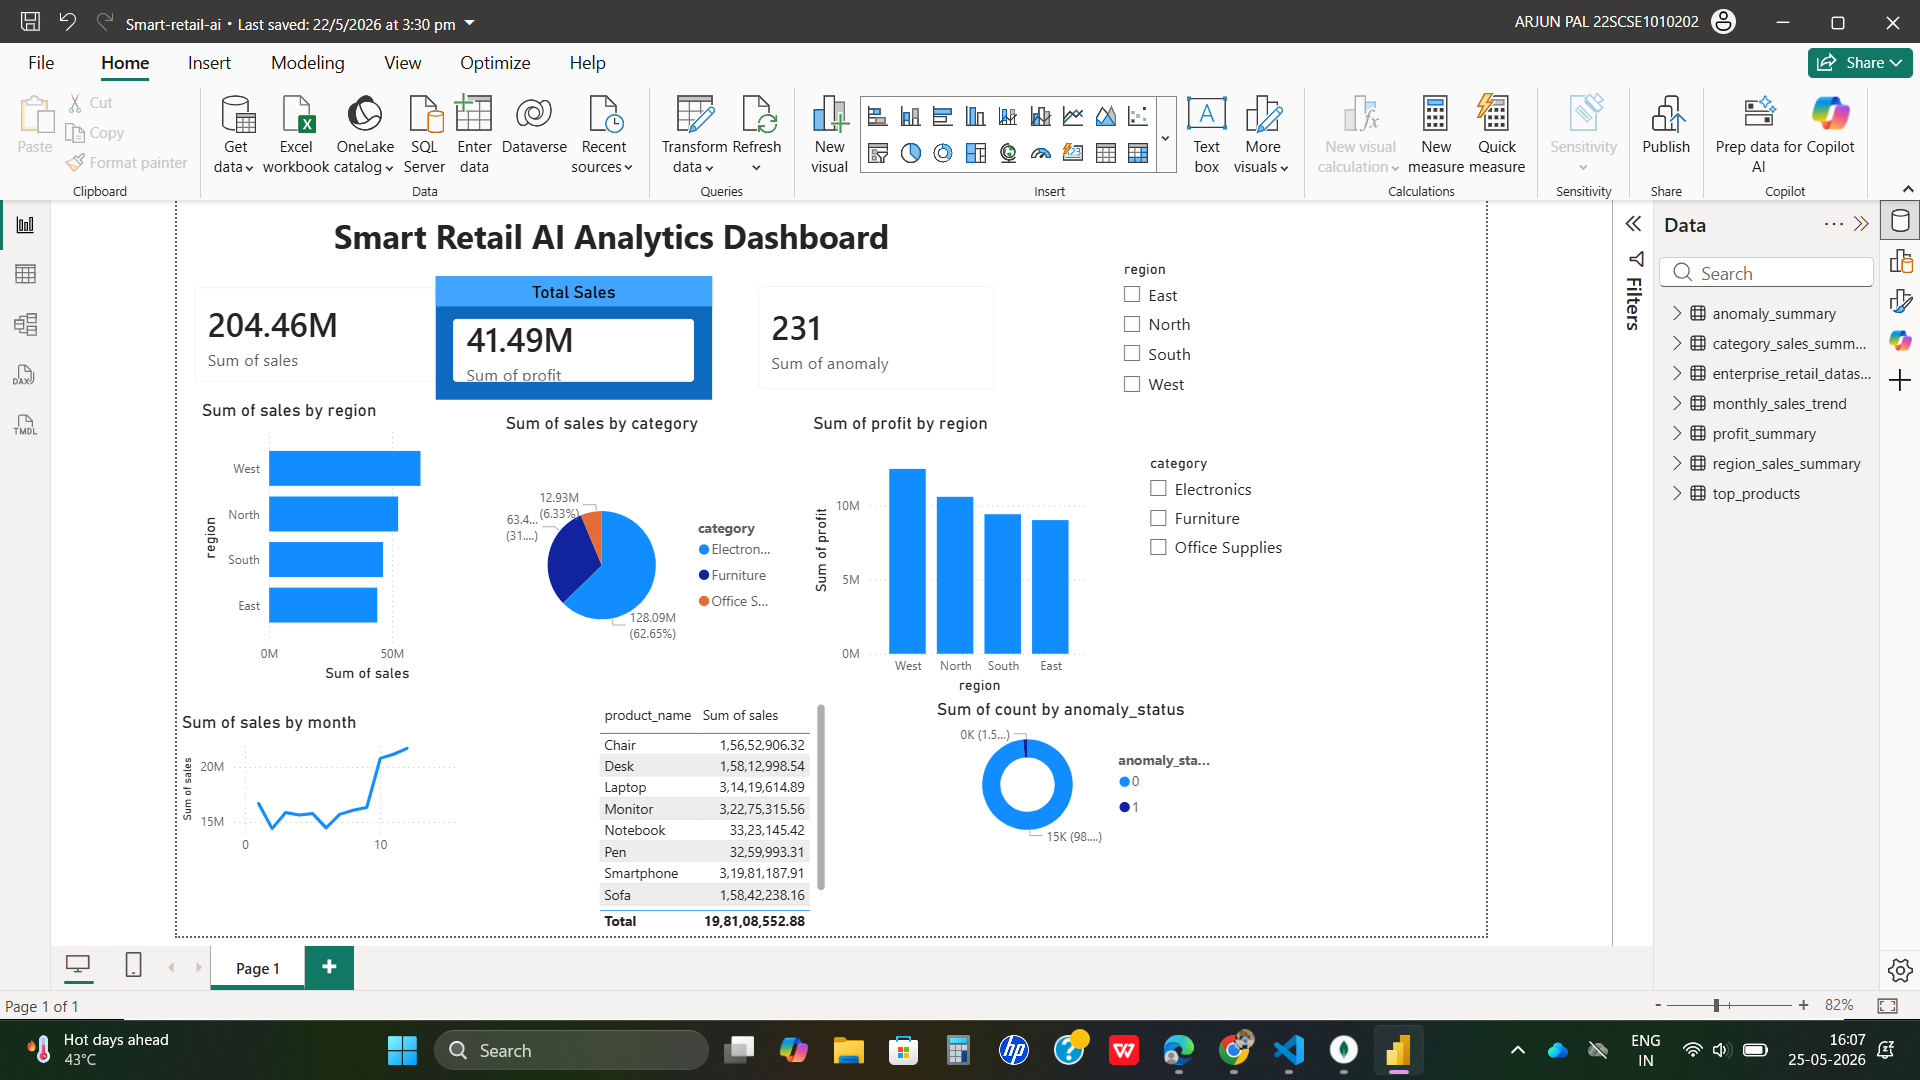

Layout of this report page (visuals, bound fields, positions):
{"tool":"powerbi","page":{"name":"Page 1","canvas":[1280,720],"ordinal":0},"visuals":[{"type":"clusteredBarChart","fields":{"Category":["region_sales_summary.region"],"Y":["Sum(region_sales_summary.sales)"]},"box":[19.6,195.7,280,280],"z":0},{"type":"pieChart","fields":{"Category":["category_sales_summary.category"],"Y":["Sum(category_sales_summary.sales)"]},"box":[316.7,207.9,280,280],"z":1},{"type":"lineChart","fields":{"Category":["monthly_sales_trend.month"],"Y":["Sum(monthly_sales_trend.sales)"]},"box":[0,500.1,280,149.2],"z":2},{"type":"clusteredColumnChart","fields":{"Category":["profit_summary.region"],"Y":["Sum(profit_summary.profit)"]},"box":[617.5,207.9,280,280],"z":3},{"type":"tableEx","fields":{"Values":["top_products.product_name","Sum(top_products.sales)"]},"box":[407.2,487.9,232.3,232.3],"z":4},{"type":"donutChart","fields":{"Category":["anomaly_summary.anomaly_status"],"Y":["Sum(anomaly_summary.count)"]},"box":[738.6,487.9,281.3,149.2],"z":5},{"type":"textbox","box":[172.4,8.6,847.4,66],"z":7},{"type":"cardVisual","fields":{"Data":["Sum(enterprise_retail_dataset.sales)"]},"box":[0,68.5,270.2,127.2],"z":8},{"type":"cardVisual","title":"Total Sales","fields":{"Data":["Sum(enterprise_retail_dataset.profit)"]},"box":[253.1,74.6,270.2,121.1],"z":9},{"type":"cardVisual","fields":{"Data":["Sum(enterprise_retail_dataset.anomaly)"]},"box":[551.7,67.6,265.2,135.3],"z":10},{"type":"slicer","fields":{"Values":["region_sales_summary.region"]},"box":[913,53.4,263.4,149.5],"z":11},{"type":"slicer","fields":{"Values":["enterprise_retail_dataset.category"]},"box":[939.7,243.8,263.4,204.7],"z":12}]}

Visuals, with their boxes on the page's 1280x720 design canvas (x1, y1, x2, y2). These are canvas units, not pixel positions in the 1920x1080 screenshot, which may show the page scaled, cropped or inside an application window:
clusteredBarChart - region_sales_summary.region x Sum(region_sales_summary.sales): Rect(20, 196, 300, 476)
pieChart - category_sales_summary.category x Sum(category_sales_summary.sales): Rect(317, 208, 597, 488)
lineChart - monthly_sales_trend.month x Sum(monthly_sales_trend.sales): Rect(0, 500, 280, 649)
clusteredColumnChart - profit_summary.region x Sum(profit_summary.profit): Rect(618, 208, 898, 488)
tableEx - top_products.product_name x Sum(top_products.sales): Rect(407, 488, 640, 720)
donutChart - anomaly_summary.anomaly_status x Sum(anomaly_summary.count): Rect(739, 488, 1020, 637)
textbox: Rect(172, 9, 1020, 75)
cardVisual - Sum(enterprise_retail_dataset.sales): Rect(0, 68, 270, 196)
"Total Sales" cardVisual: Rect(253, 75, 523, 196)
cardVisual - Sum(enterprise_retail_dataset.anomaly): Rect(552, 68, 817, 203)
slicer - region_sales_summary.region: Rect(913, 53, 1176, 203)
slicer - enterprise_retail_dataset.category: Rect(940, 244, 1203, 448)
